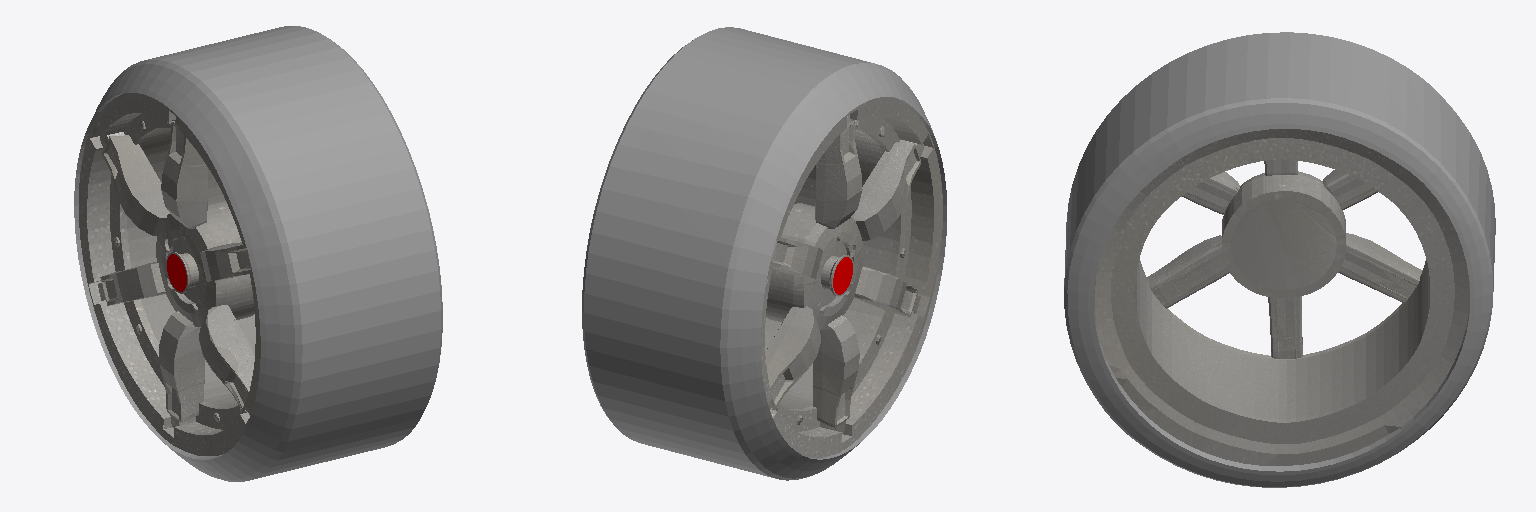
The picture shows the model from 3 angles: view 1: azimuth 30°, elevation 25°; view 2: azimuth 150°, elevation 25°; view 3: azimuth 270°, elevation 25°; orthographic projection.
Visible parts, largest first — view 1: Wheel_Circle.001; view 2: Wheel_Circle.001; view 3: Wheel_Circle.001.
Part boxes in pixels (x1,y1,x2,y2): Wheel_Circle.001: (74, 26, 442, 481); Wheel_Circle.001: (582, 27, 946, 480); Wheel_Circle.001: (1064, 32, 1495, 487).
Size of the model in its own units: 0.3368 by 0.7194 by 0.7196.
3 materials, 1 textured.